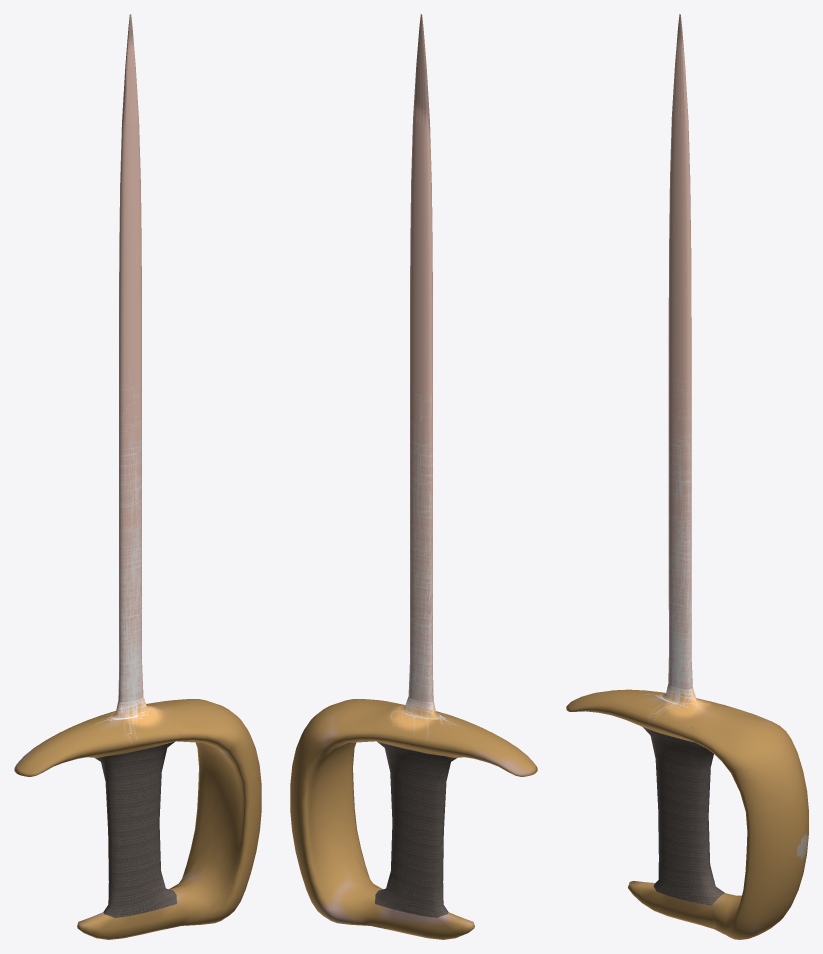
File: 3D_PROP_WEAPON_SwordLight.fbx
3 views of the same model, side by side, from view 1: azimuth 30°, elevation 25°; view 2: azimuth 150°, elevation 25°; view 3: azimuth 330°, elevation 25° (orthographic).
Parts seen in each view (by area): view 1: Cylinder001; view 2: Cylinder001; view 3: Cylinder001.
Part boxes in pixels (box(x1,y1,x2,y2)): Cylinder001: box(14, 14, 261, 939); Cylinder001: box(290, 14, 537, 939); Cylinder001: box(566, 14, 808, 939).
Size of the model in its own units: 7.73 by 28.4 by 2.75.
